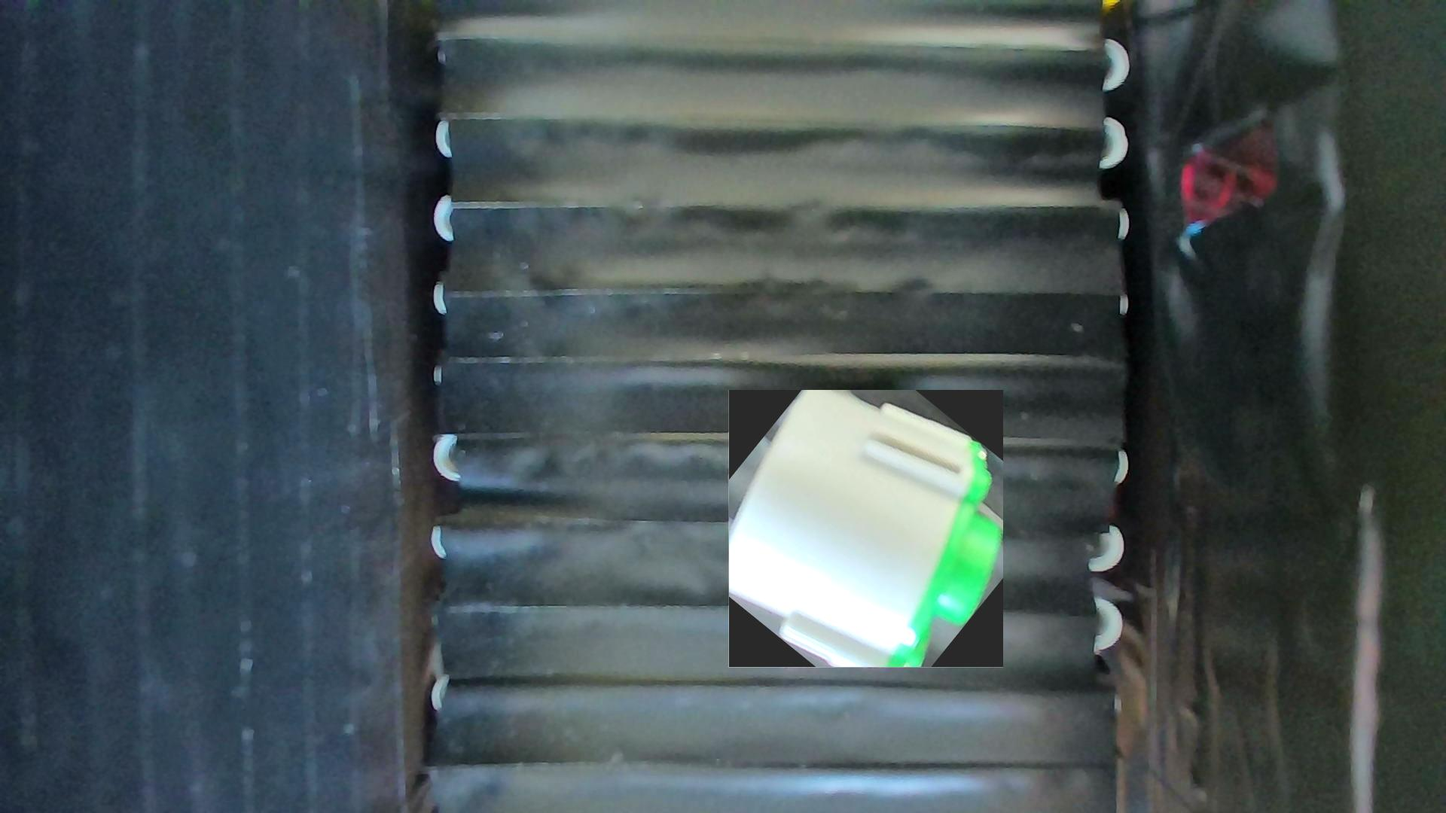cartridge: (728, 391, 1003, 668)
